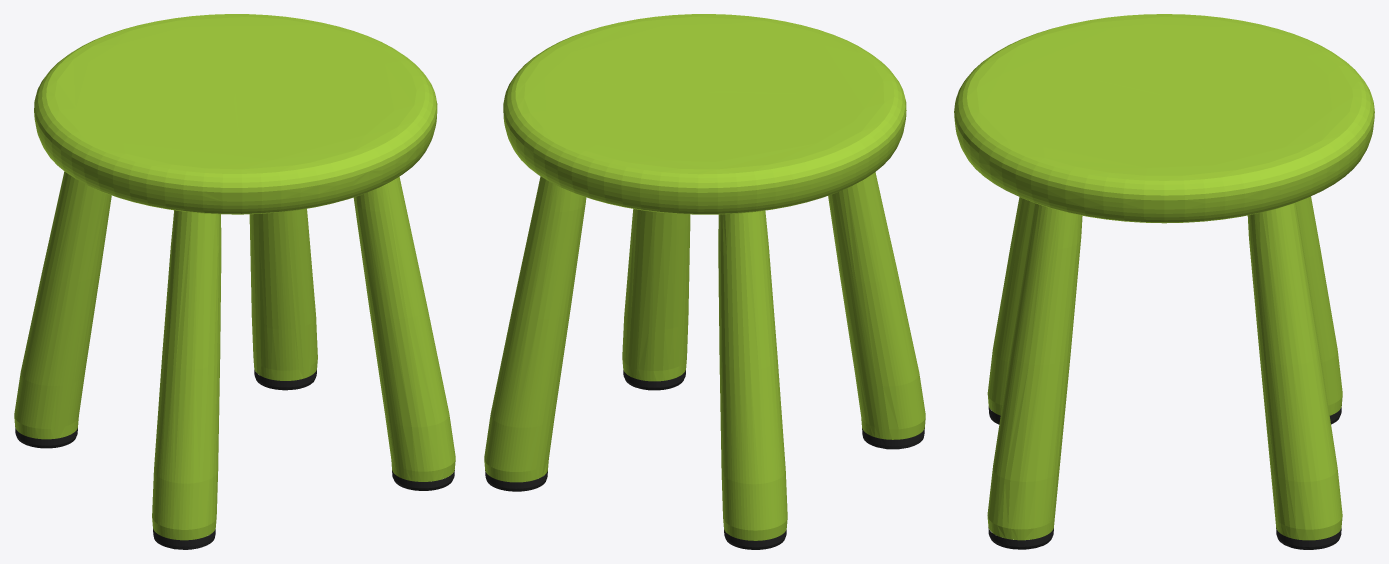
The model's file is sh-bsby-green-stool.glb.
The picture shows the model from 3 angles, left to right: view 1: azimuth 30°, elevation 25°; view 2: azimuth 150°, elevation 25°; view 3: azimuth 270°, elevation 25°; orthographic projection. The views are drawn at different scales.
Visible parts, largest first — view 1: Circle.001; view 2: Circle.001; view 3: Circle.001.
Boxes of the visible parts, x1=… form: Circle.001: x1=14, y1=14, x2=455, y2=549; Circle.001: x1=484, y1=14, x2=925, y2=549; Circle.001: x1=954, y1=14, x2=1374, y2=549.
Size of the model in its own units: 1 by 1 by 1.
